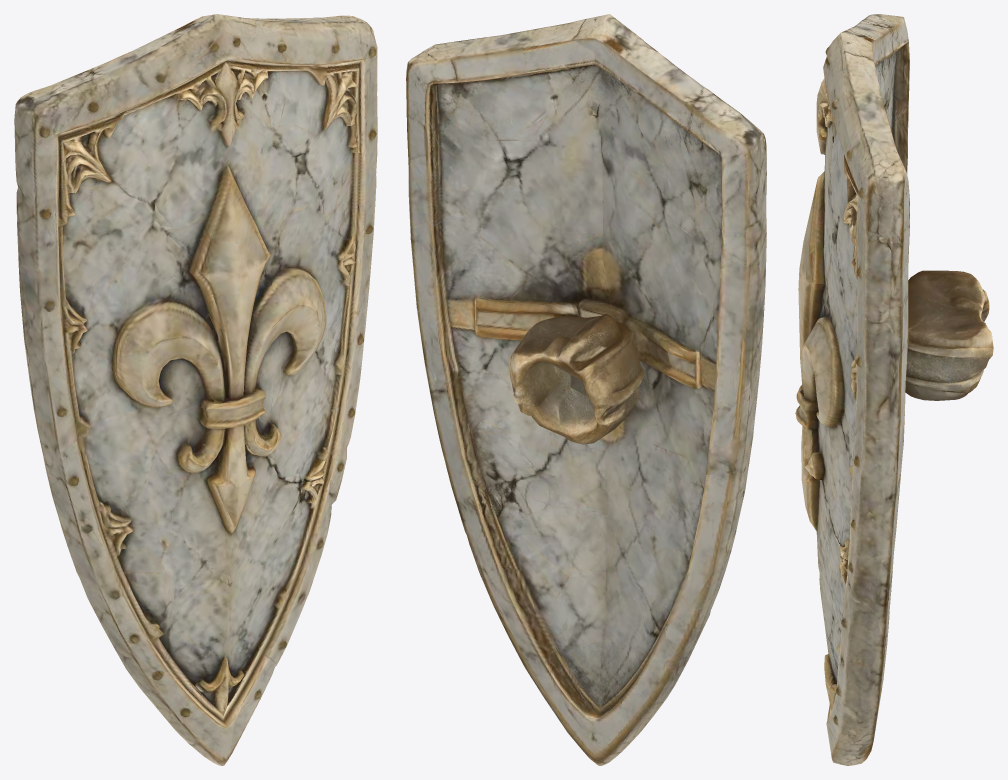
File: shield-white.glb
3 renders of one model, left to right at view 1: azimuth 30°, elevation 25°; view 2: azimuth 150°, elevation 25°; view 3: azimuth 270°, elevation 25°, orthographic. The views are drawn at different scales.
Visible parts, largest first — view 1: Shield; view 2: Shield; view 3: Shield.
Boxes of the visible parts, x1,y1,x2,y2 form: Shield: (14, 14, 377, 765); Shield: (406, 14, 766, 765); Shield: (795, 14, 993, 765).
Size of the model in its own units: 0.2959 by 0.6 by 0.1472.
Materials: 1 (1 with a texture image).
